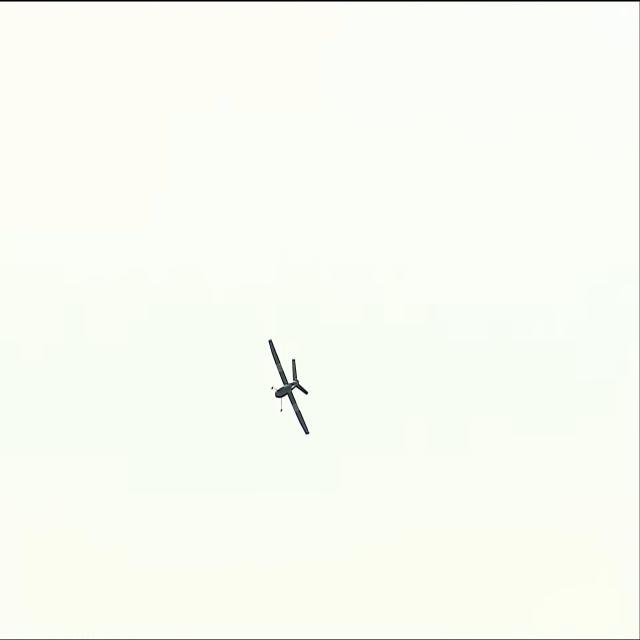iha: (267, 372, 309, 405)
